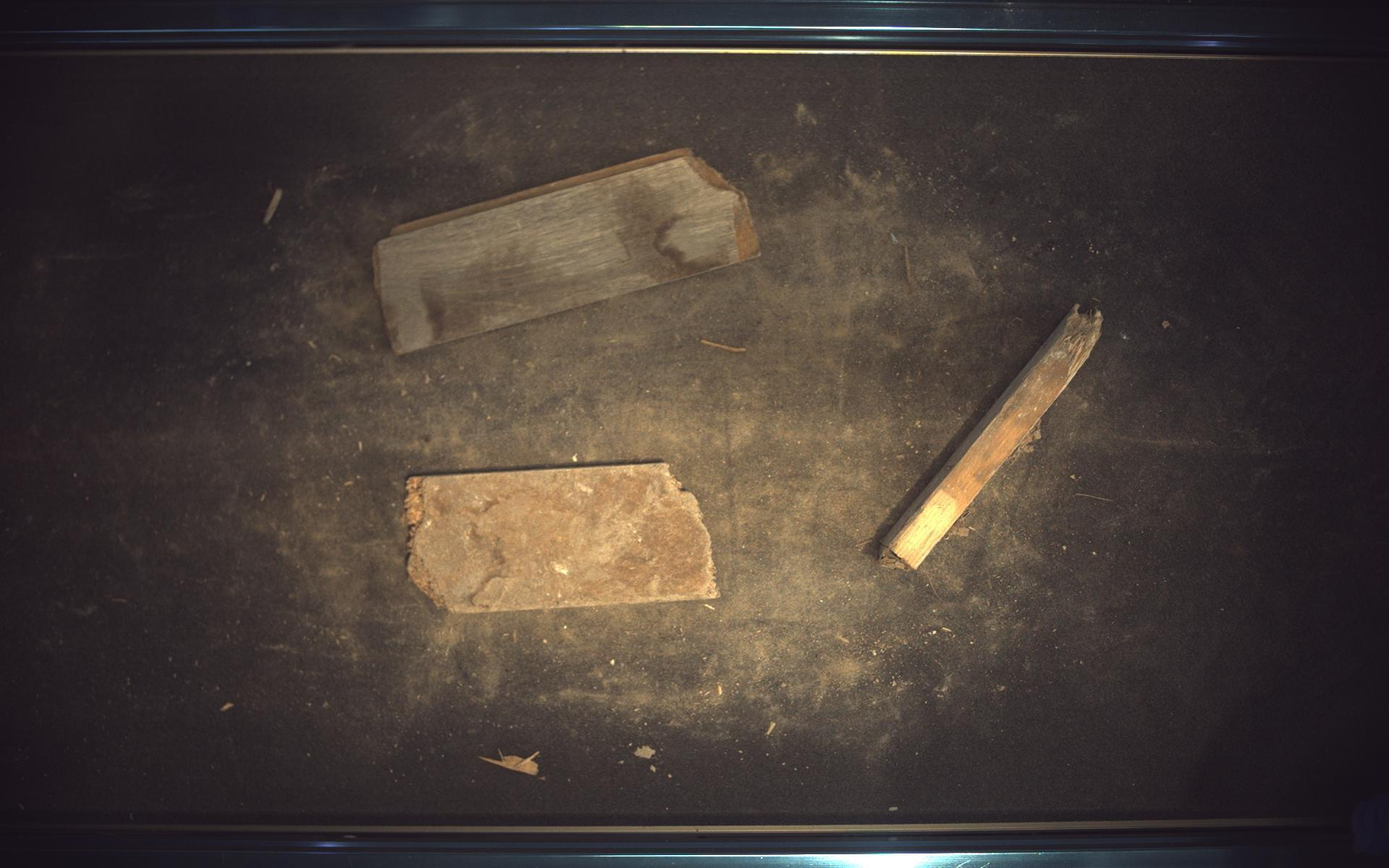wood: (373, 148, 760, 354), (883, 304, 1105, 570), (404, 463, 720, 613)
